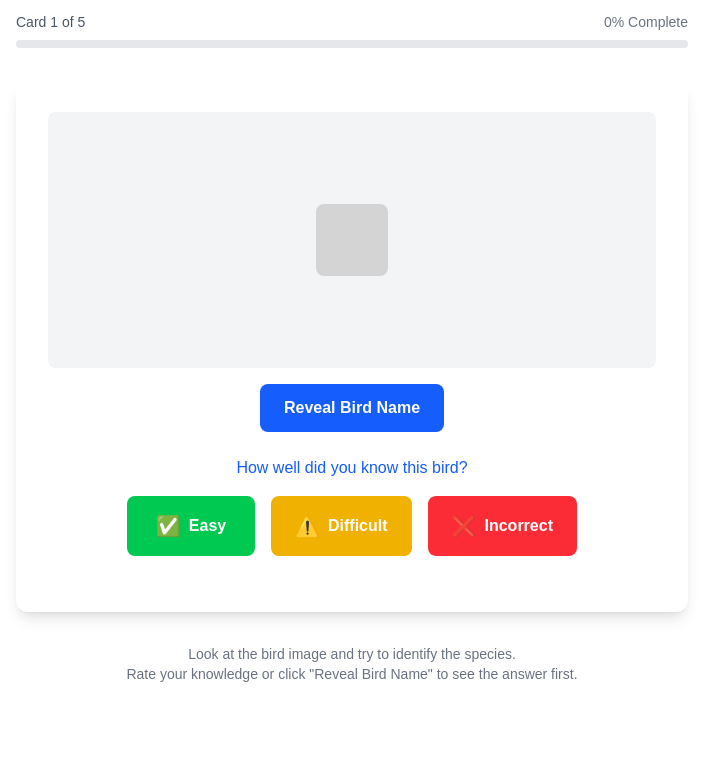
Test: FlashcardComponent › should reveal bird name when button is clicked
Expected: the text "Test Robin" is not shown
Click the button "Reveal Bird Name" at (352, 408), box [260,384,444,432]
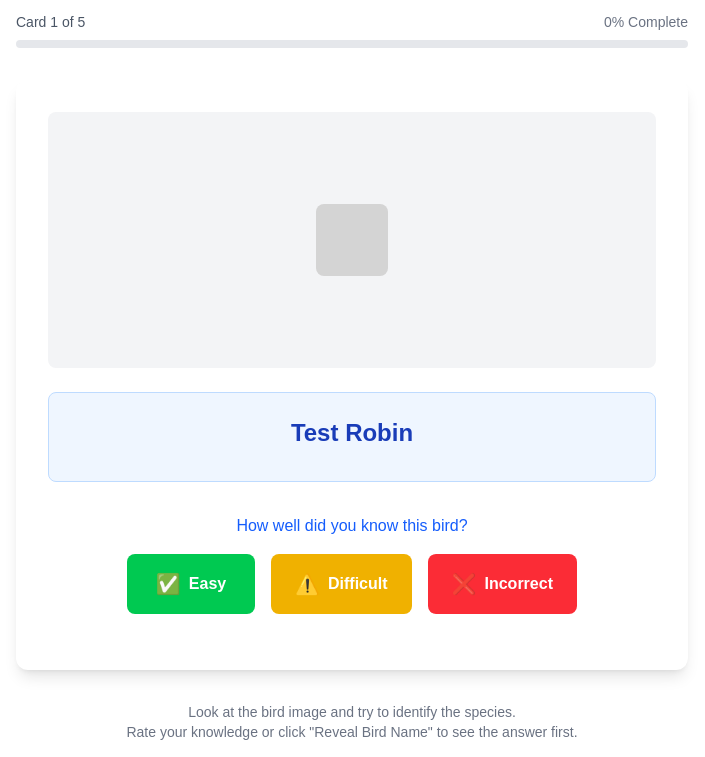
Now the heading "Test Robin" is shown, box [291,419,413,446]
